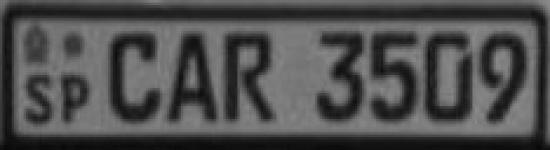0: (423, 23, 476, 127)
3: (312, 24, 370, 126)
5: (371, 23, 422, 126)
9: (476, 24, 530, 130)
A: (166, 29, 221, 127)
C: (102, 24, 166, 126)
P: (54, 68, 94, 129)
R: (221, 27, 280, 129)
S: (22, 68, 56, 127)
